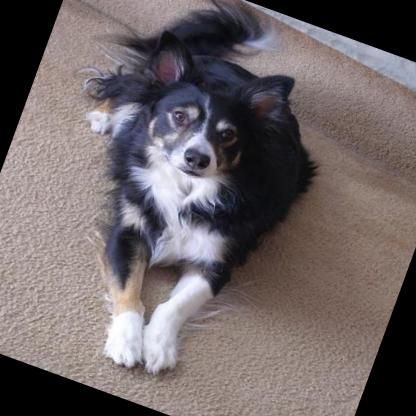Border_collie: (0, 0, 370, 410)
